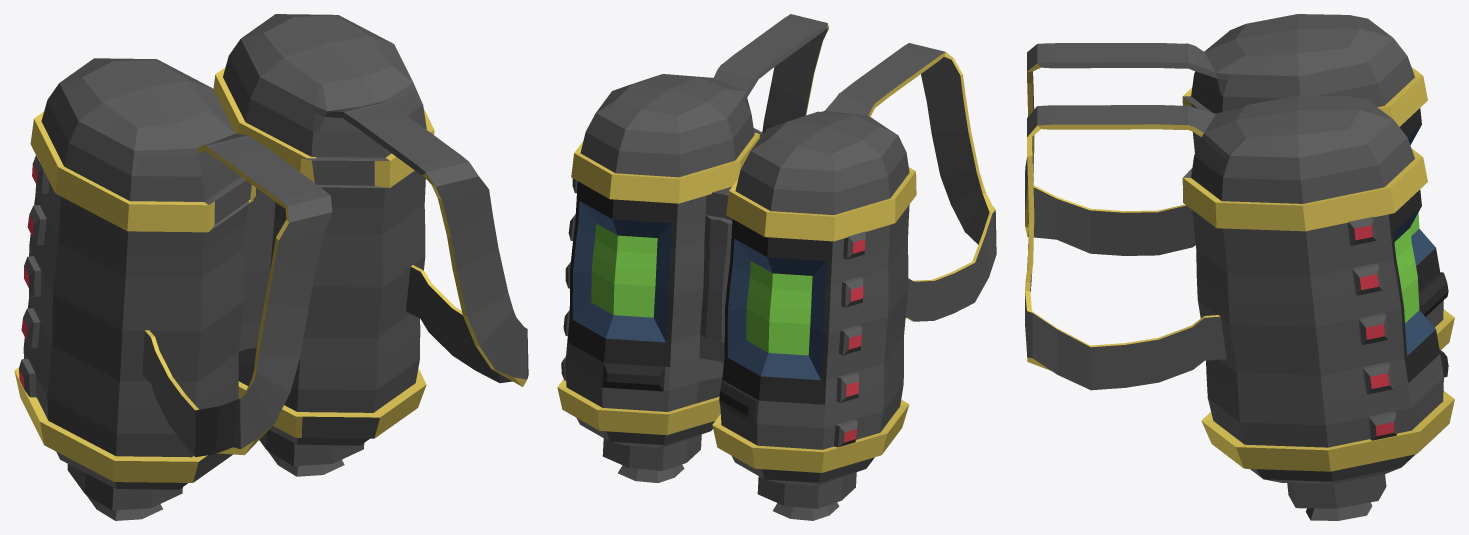
3 views of the same model, side by side, from view 1: azimuth 30°, elevation 25°; view 2: azimuth 150°, elevation 25°; view 3: azimuth 270°, elevation 25° (orthographic). The views are drawn at different scales.
Parts seen in each view (by area): view 1: jetpack; view 2: jetpack; view 3: jetpack.
Boxes of the visible parts, x1,y1,x2,y2 form: jetpack: (14, 14, 528, 520); jetpack: (557, 14, 996, 520); jetpack: (1025, 14, 1454, 520).
Size of the model in its own units: 237 by 274 by 266.
